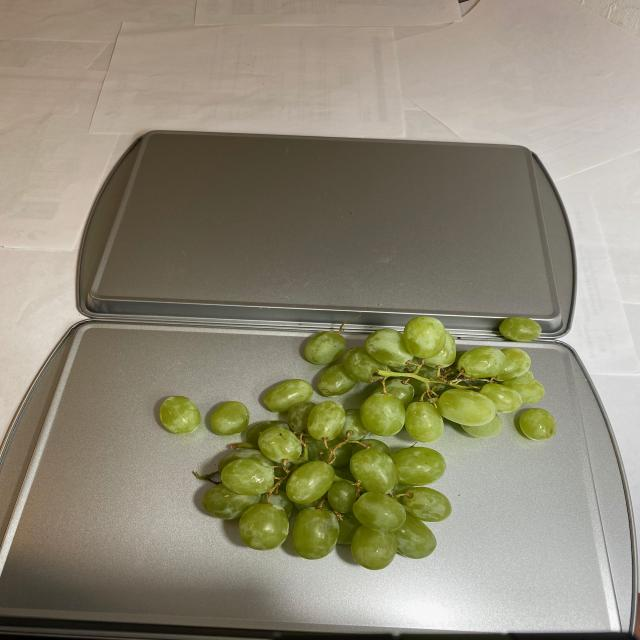grapes: (158, 320, 566, 561)
